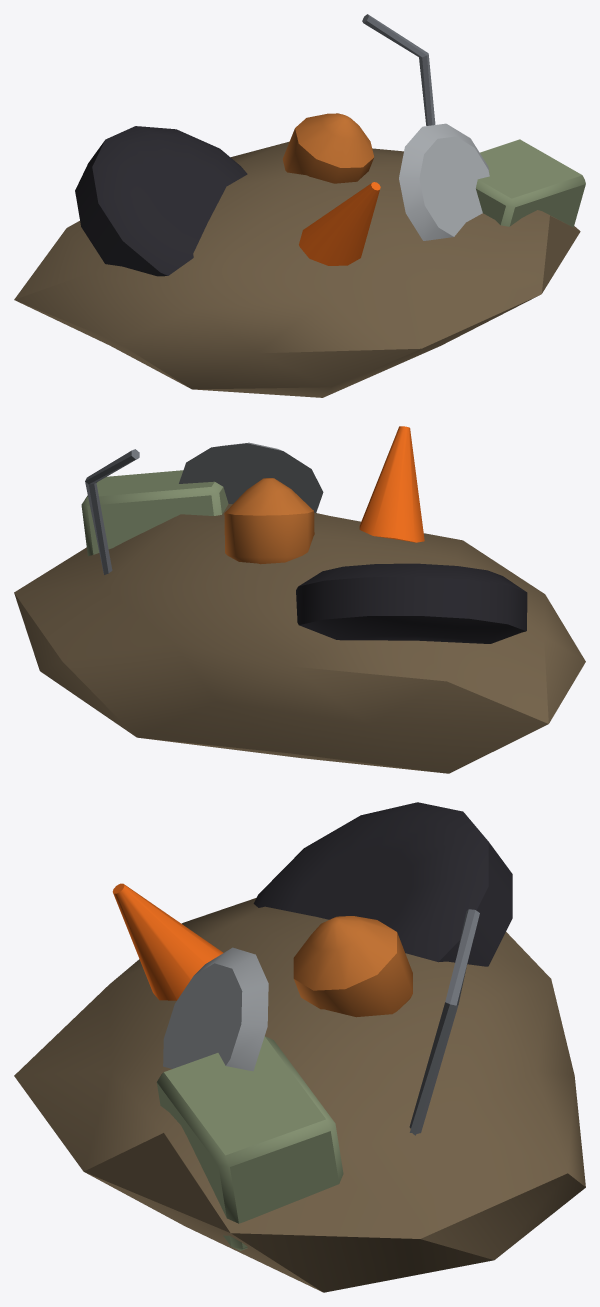
The model's file is junk_pile.glb.
3 views of the same model, one above another, from view 1: azimuth 30°, elevation 25°; view 2: azimuth 150°, elevation 25°; view 3: azimuth 270°, elevation 25° (orthographic). The views are drawn at different scales.
Parts seen in each view (by area): view 1: junk_pile; view 2: junk_pile; view 3: junk_pile.
Part boxes in pixels (left/top/right/bottom): junk_pile: left=14, top=14, right=585, bottom=397; junk_pile: left=14, top=426, right=585, bottom=773; junk_pile: left=14, top=802, right=585, bottom=1292.
Size of the model in its own units: 2.2 by 1.09 by 1.61.
